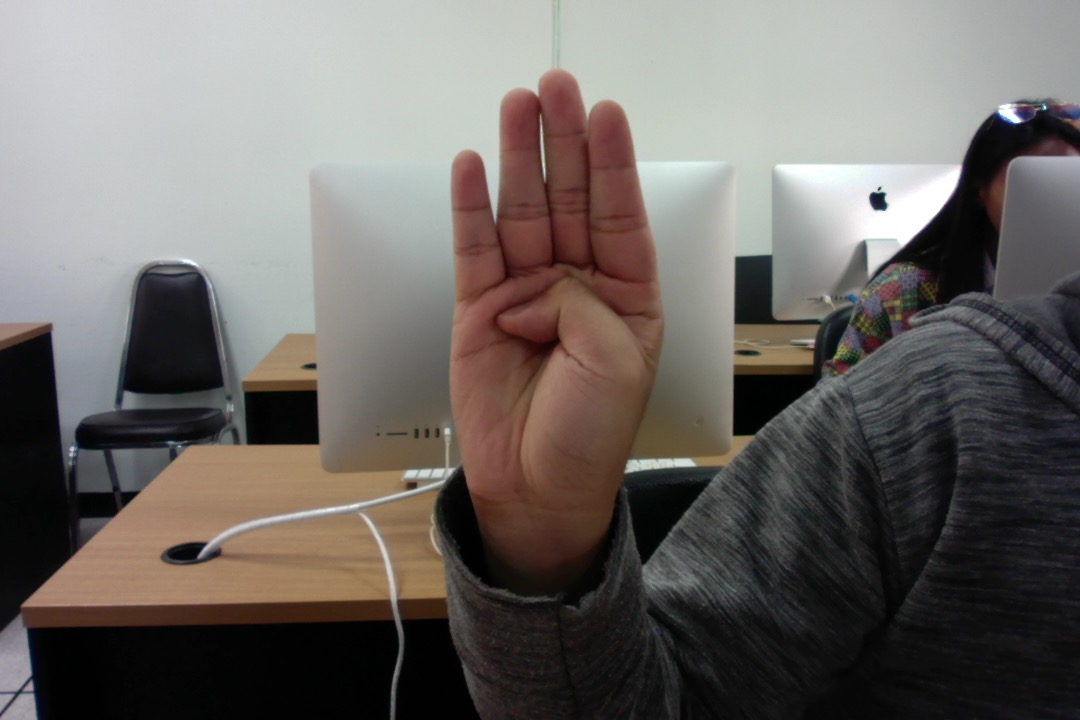bor: (421, 55, 683, 566)
